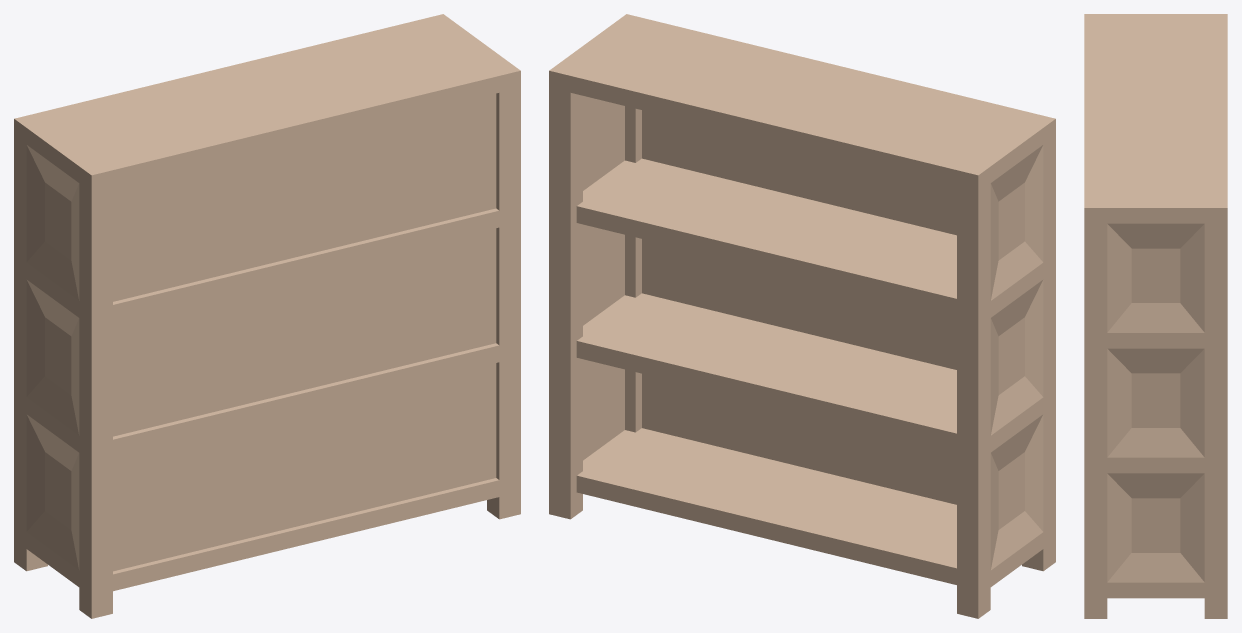
The model's file is bookcase_wide.glb.
The picture shows the model from 3 angles, left to right: view 1: azimuth 30°, elevation 25°; view 2: azimuth 150°, elevation 25°; view 3: azimuth 270°, elevation 25°; orthographic projection. The views are drawn at different scales.
Parts seen in each view (by area): view 1: bookcaseClosedWide(Clone); view 2: bookcaseClosedWide(Clone); view 3: bookcaseClosedWide(Clone).
Part boxes in pixels (x1,y1,x2,y2): bookcaseClosedWide(Clone): (14, 14, 520, 618); bookcaseClosedWide(Clone): (549, 14, 1055, 618); bookcaseClosedWide(Clone): (1084, 14, 1227, 618).
Size of the model in its own units: 1.68 by 1.66 by 0.525.
